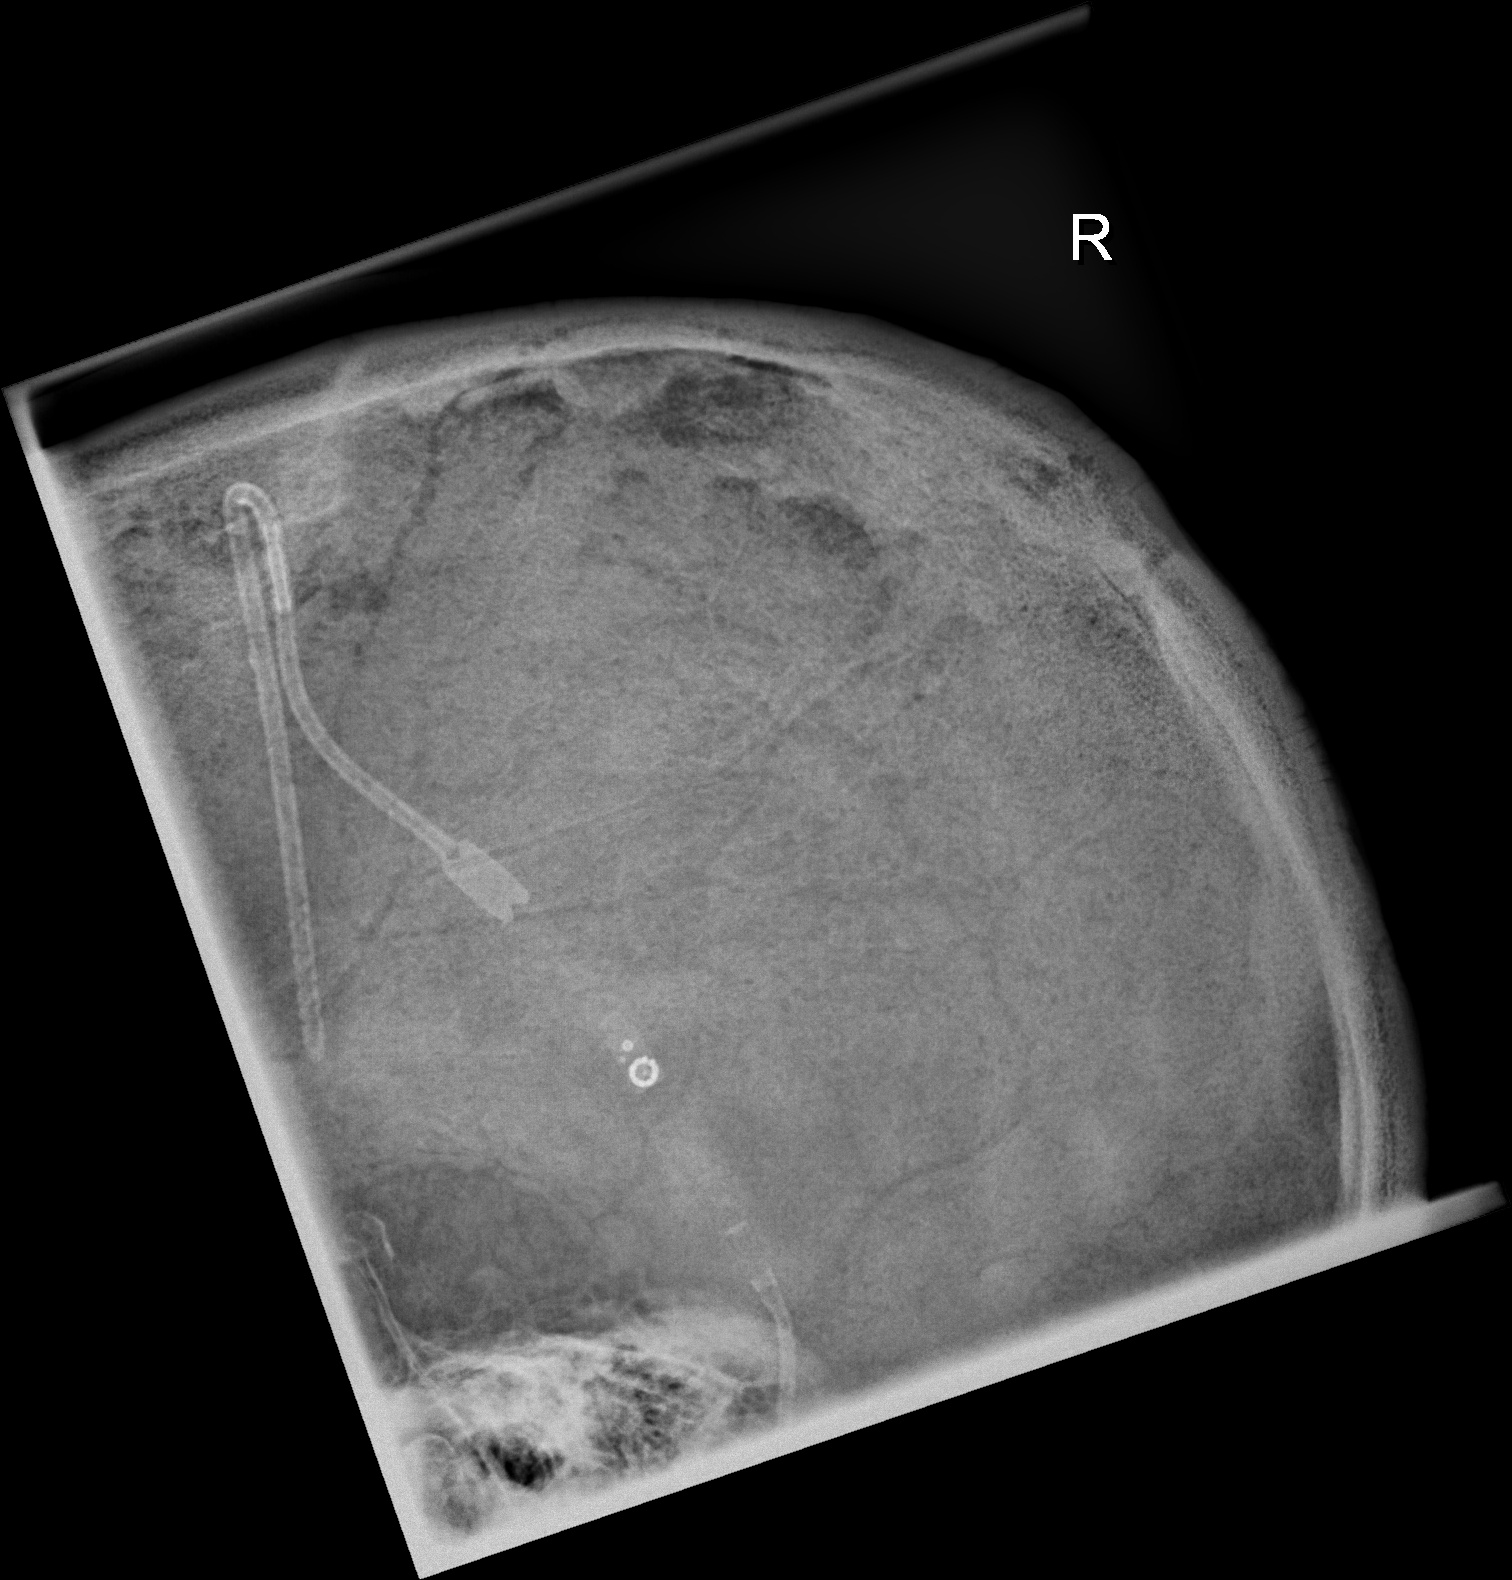Codman Hakim: (597, 1021, 673, 1119)
